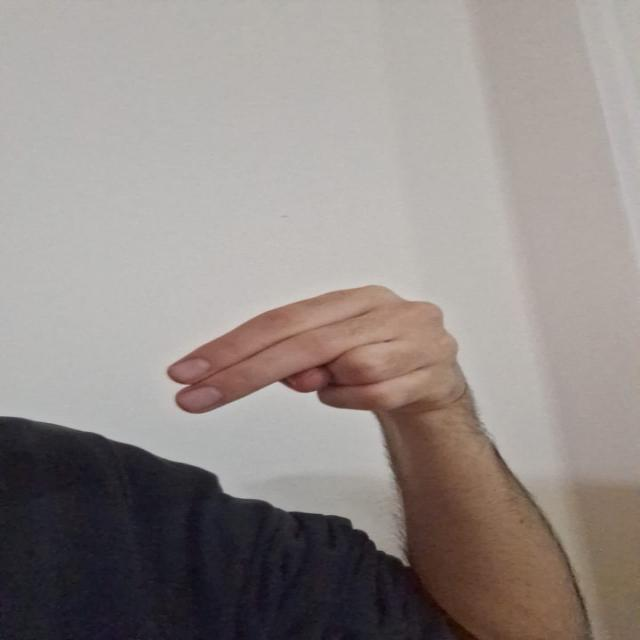N: (151, 285, 486, 435)
